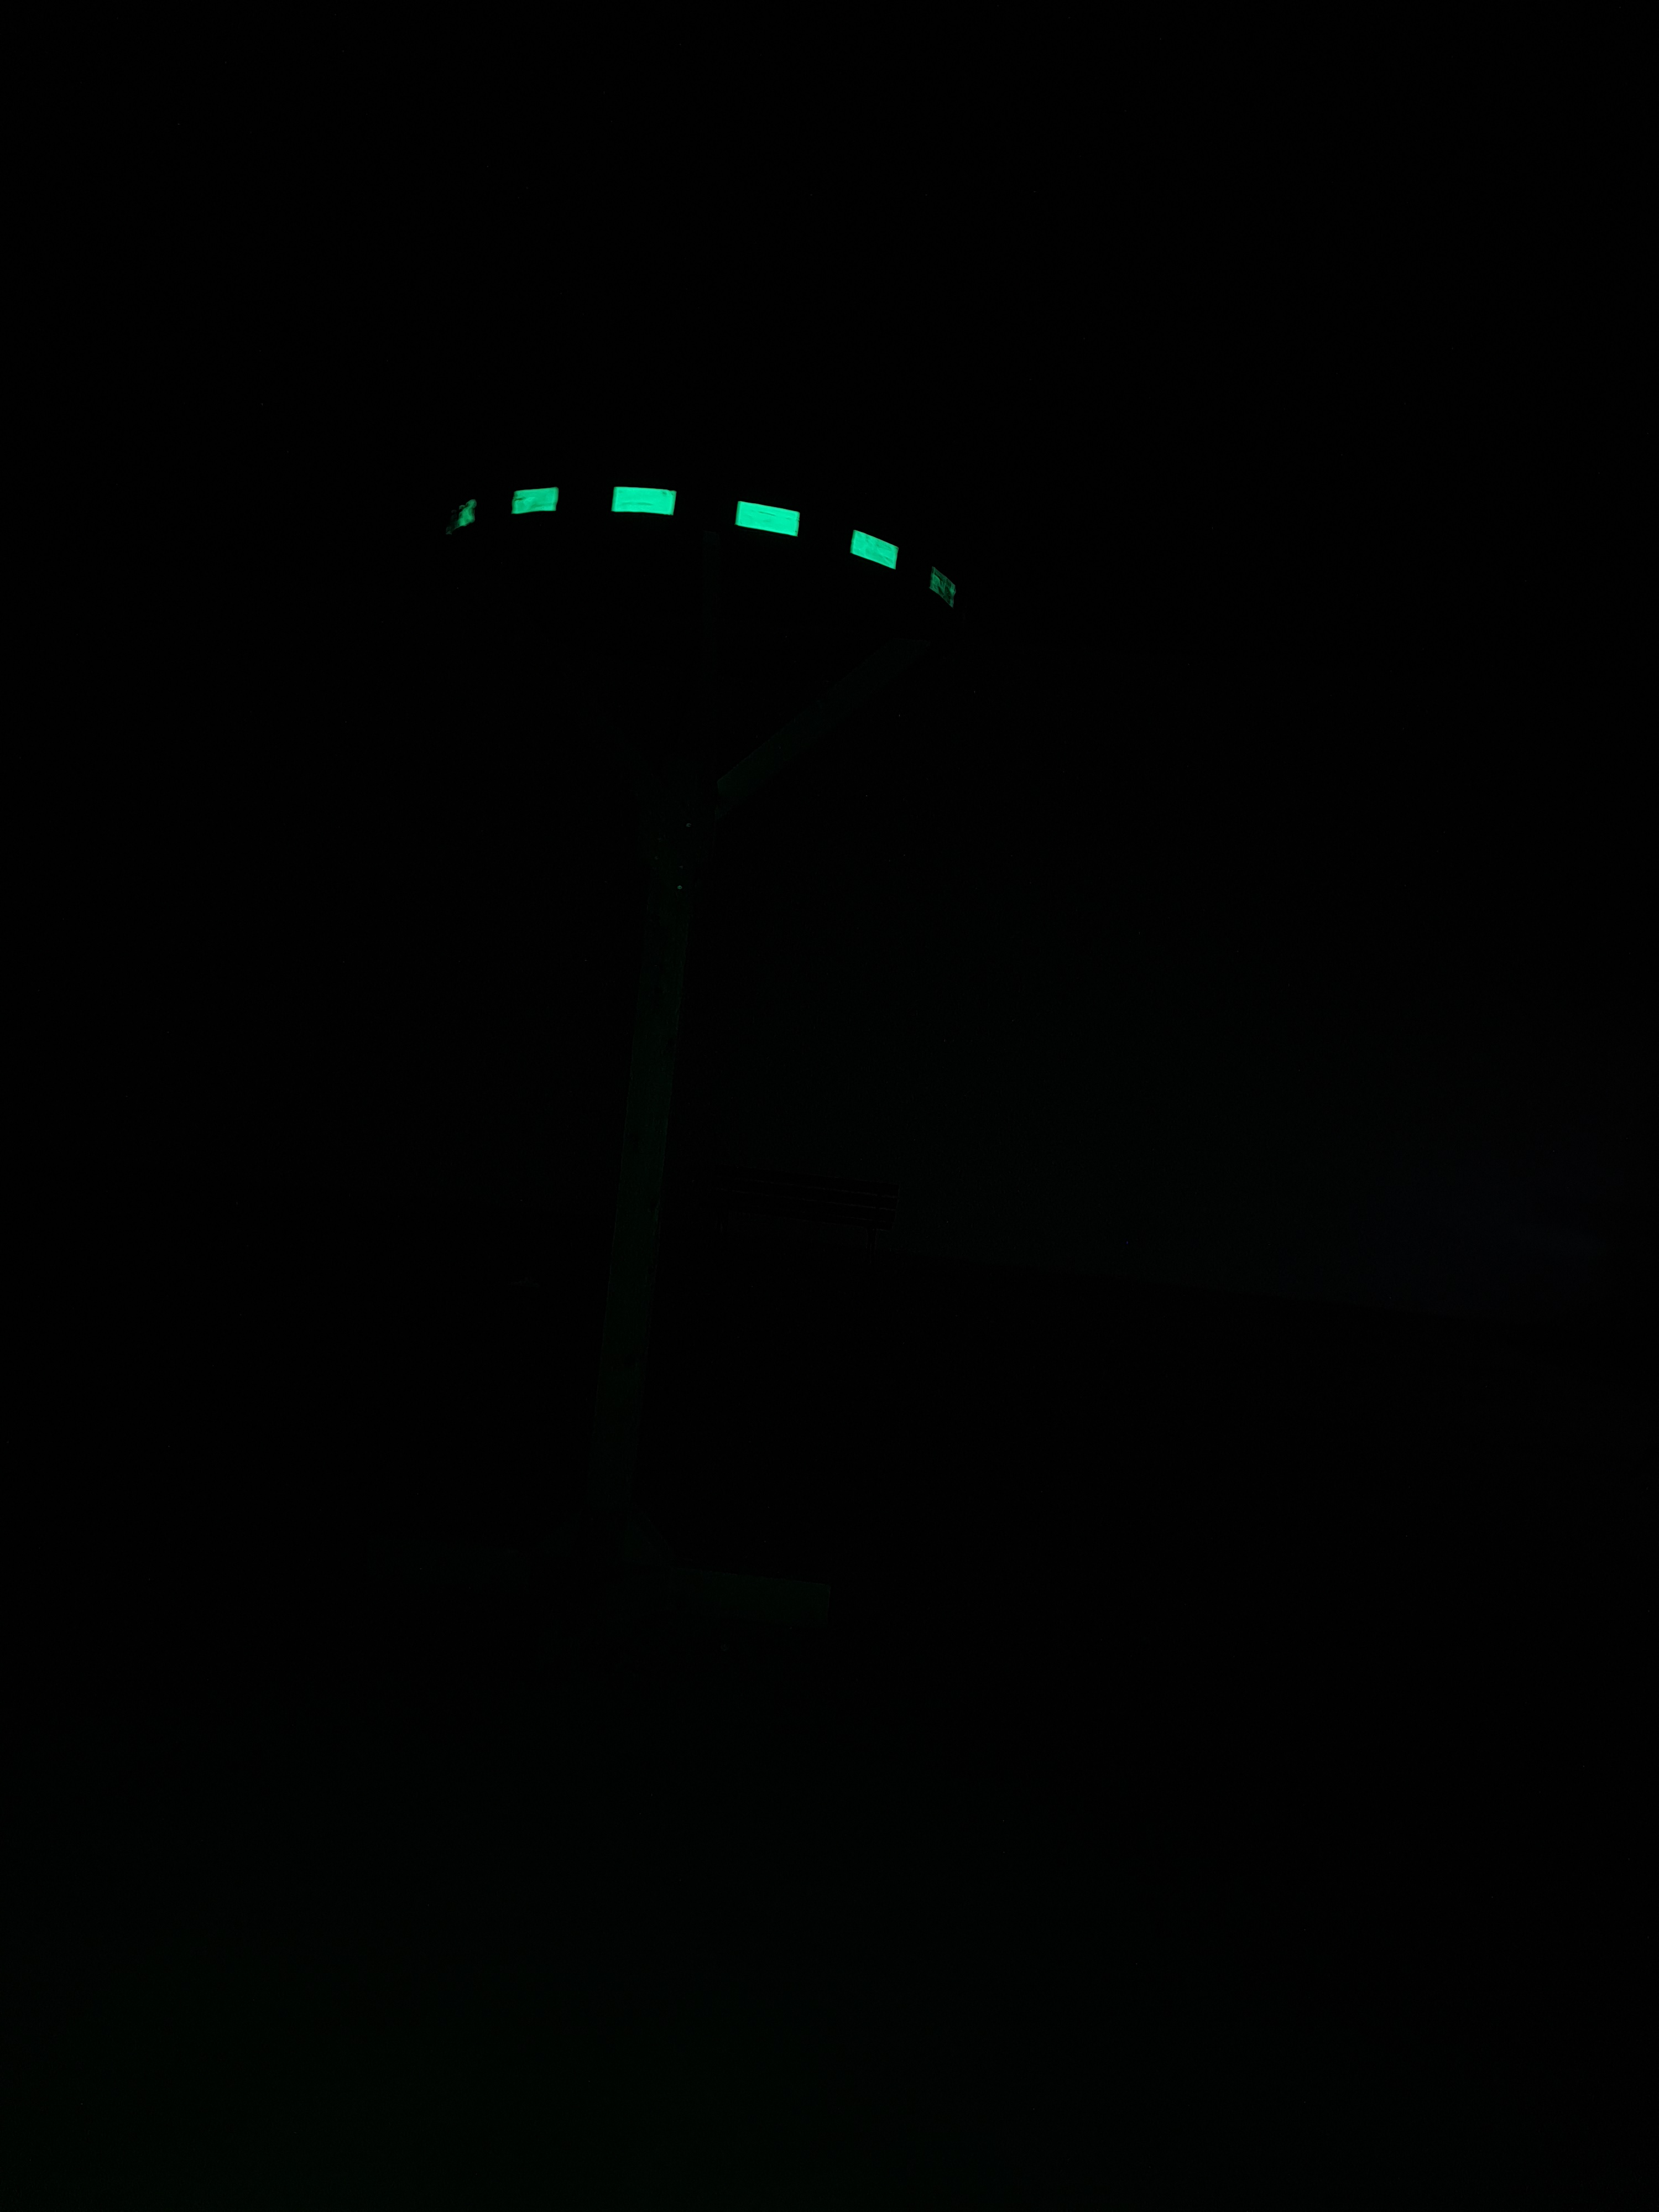hoop: (441, 469, 965, 622)
